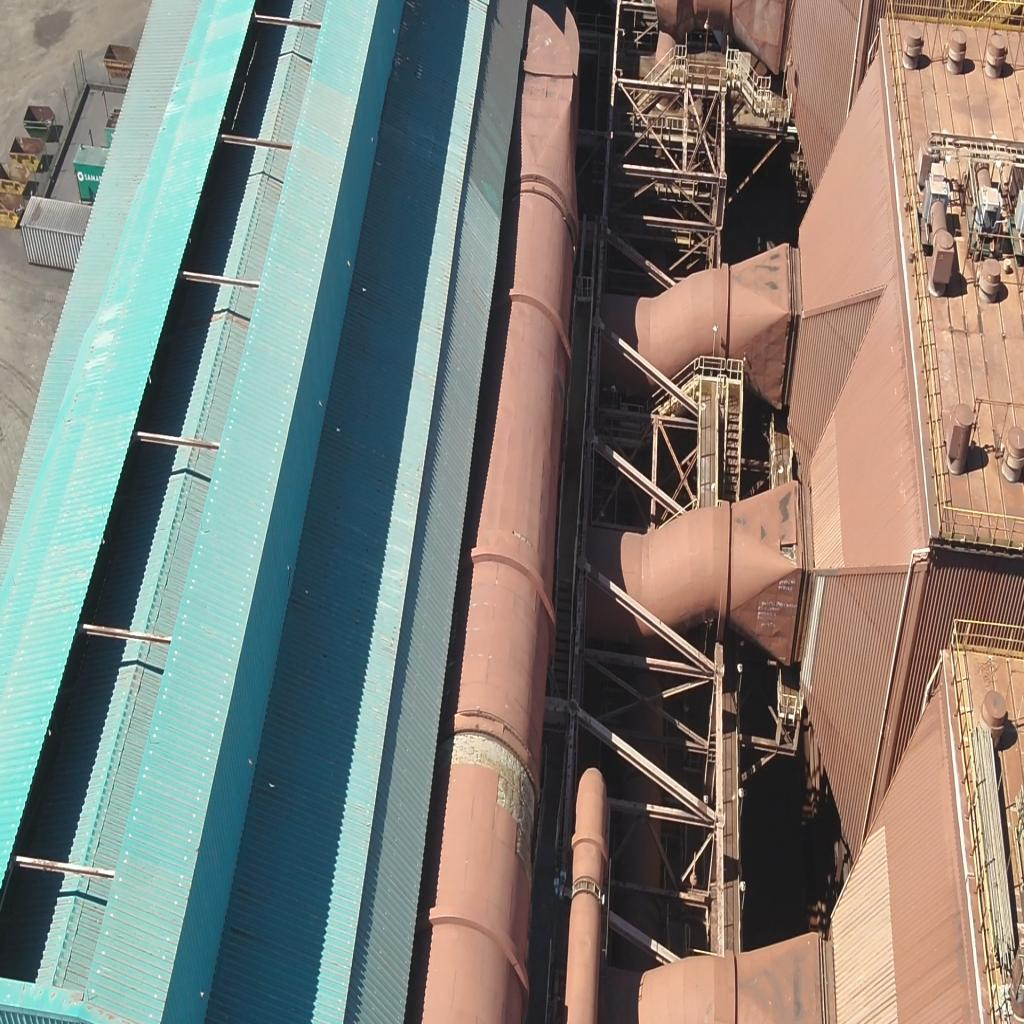Failures: (443, 714, 535, 860), (777, 526, 799, 575)
